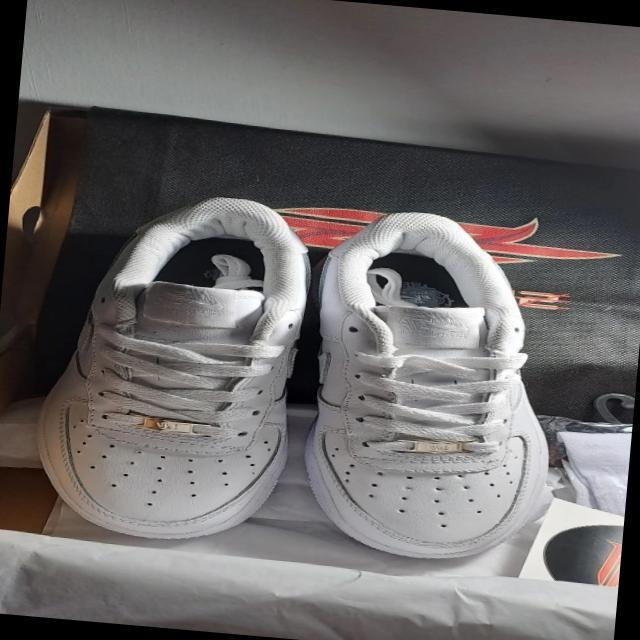nike fake air force: (286, 203, 601, 575), (31, 178, 322, 551)
